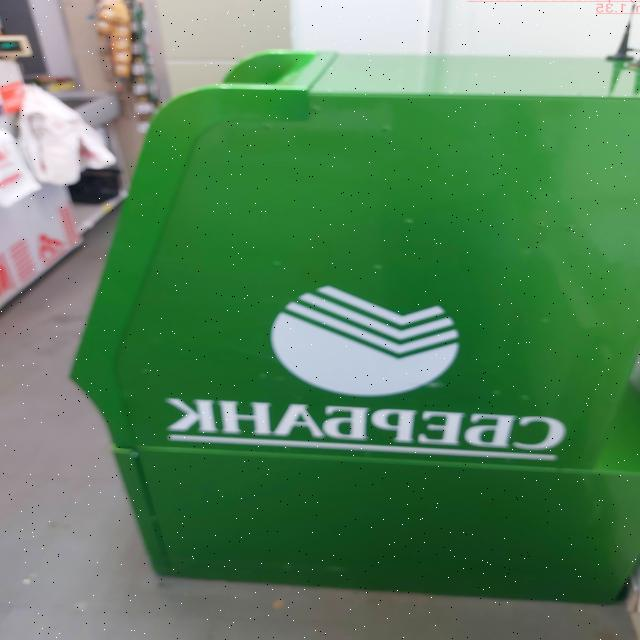bank: (67, 44, 640, 600)
